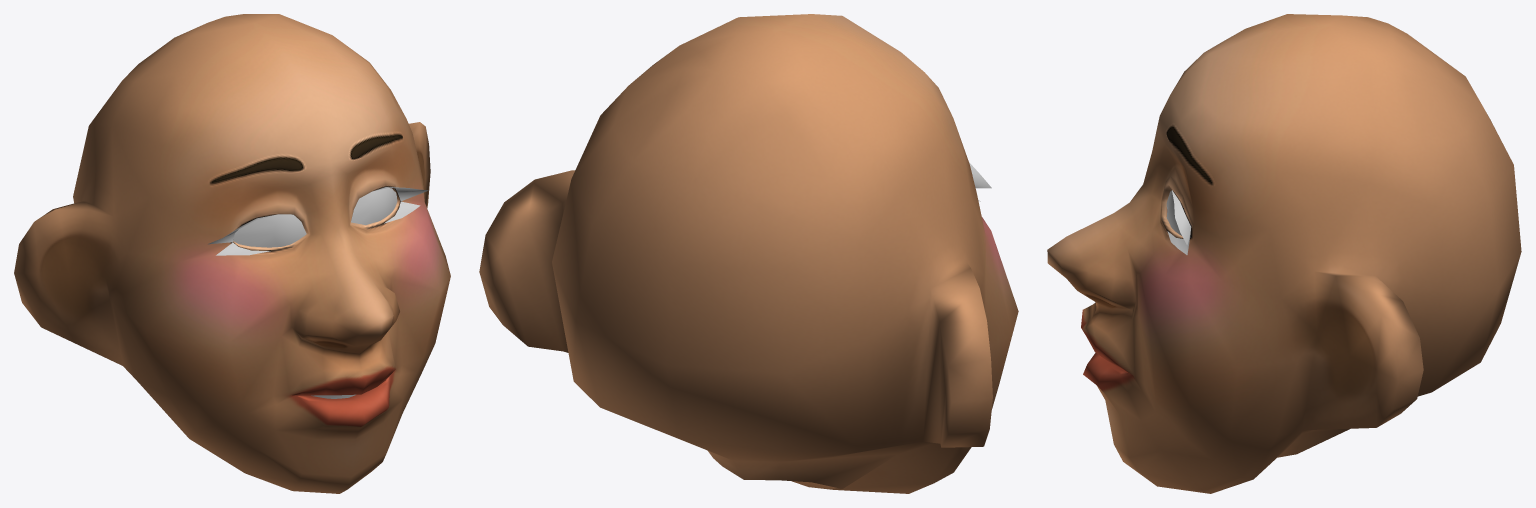
File: F_sitpose06.fbx
3 renders of one model, left to right at view 1: azimuth 30°, elevation 25°; view 2: azimuth 150°, elevation 25°; view 3: azimuth 270°, elevation 25°, orthographic. The views are drawn at different scales.
Parts seen in each view (by area): view 1: HEAD; view 2: HEAD; view 3: HEAD.
Boxes of the visible parts, x1=… form: HEAD: x1=14, y1=14, x2=450, y2=493; HEAD: x1=479, y1=14, x2=1018, y2=493; HEAD: x1=1047, y1=14, x2=1521, y2=493.
Size of the model in its own units: 27.45 by 25.92 by 24.63.
